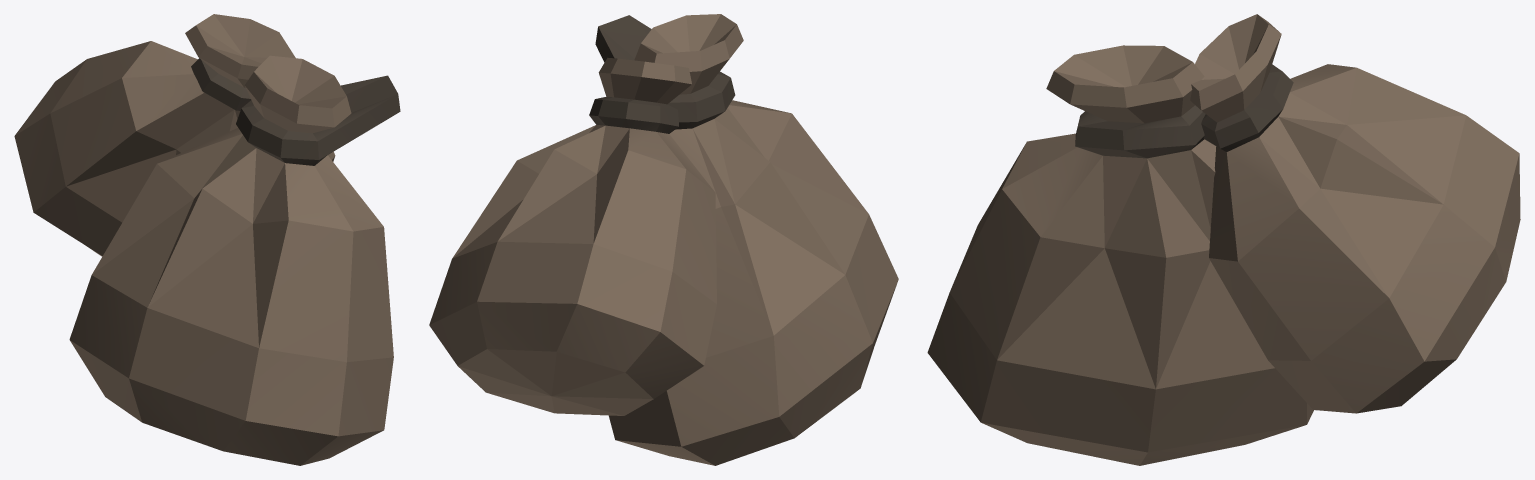
The model's file is SM_Item_Bags.fbx.
The picture shows the model from 3 angles, left to right: view 1: azimuth 30°, elevation 25°; view 2: azimuth 150°, elevation 25°; view 3: azimuth 270°, elevation 25°; orthographic projection. The views are drawn at different scales.
Parts seen in each view (by area): view 1: SM_Item_Bags; view 2: SM_Item_Bags; view 3: SM_Item_Bags.
Part boxes in pixels (<box>): SM_Item_Bags: <box>14,14,400,465</box>; SM_Item_Bags: <box>429,14,898,465</box>; SM_Item_Bags: <box>927,14,1520,465</box>.
Size of the model in its own units: 12.78 by 16.26 by 20.33.
